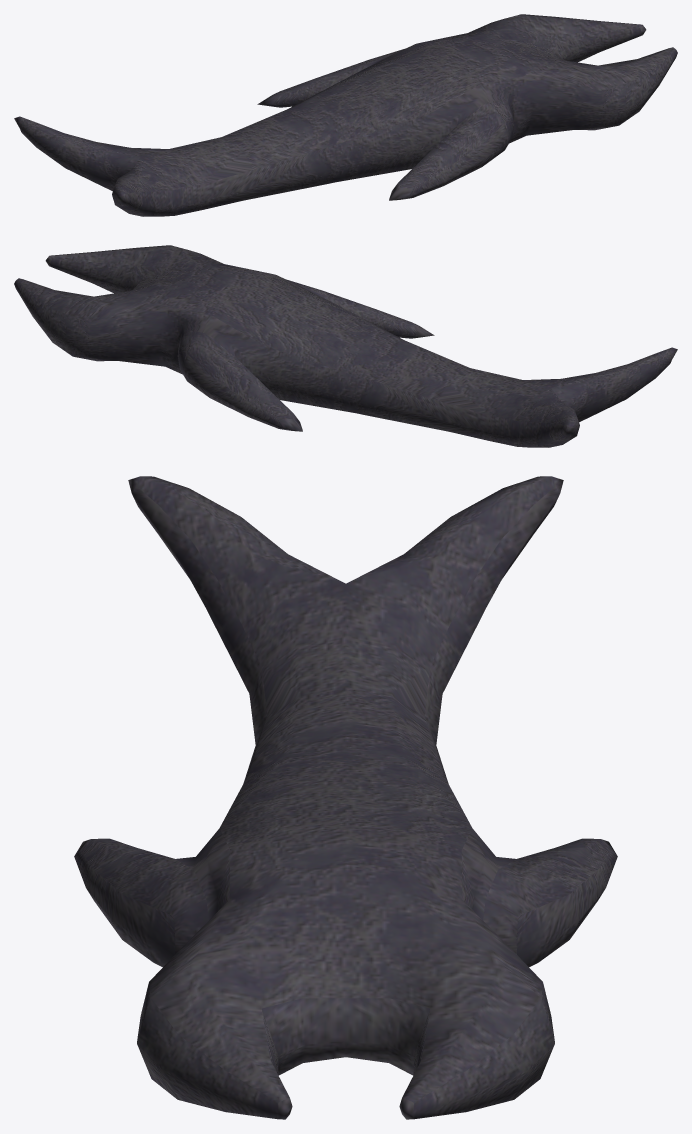
File: rammer.glb
3 views of the same model, one above another, from view 1: azimuth 30°, elevation 25°; view 2: azimuth 150°, elevation 25°; view 3: azimuth 270°, elevation 25° (orthographic). The views are drawn at different scales.
Visible parts, largest first — view 1: Cube; view 2: Cube; view 3: Cube.
Boxes of the visible parts, x1,y1,x2,y2 form: Cube: (14, 14, 677, 216); Cube: (14, 245, 677, 447); Cube: (74, 476, 617, 1119).
Size of the model in its own units: 6.54 by 0.9245 by 2.59.
1 material, 1 textured.
